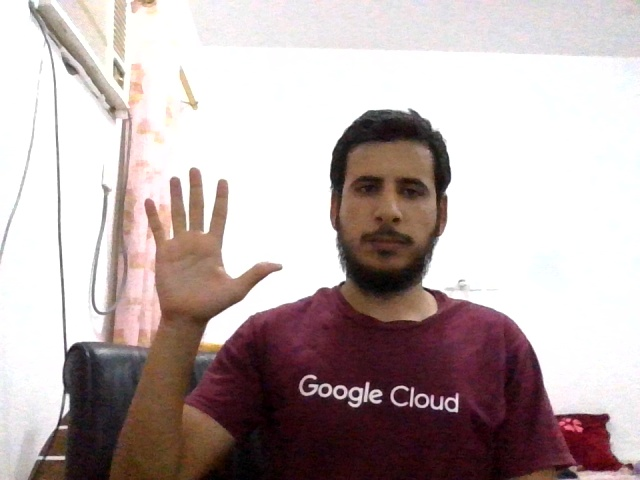Five: (144, 168, 283, 318)
